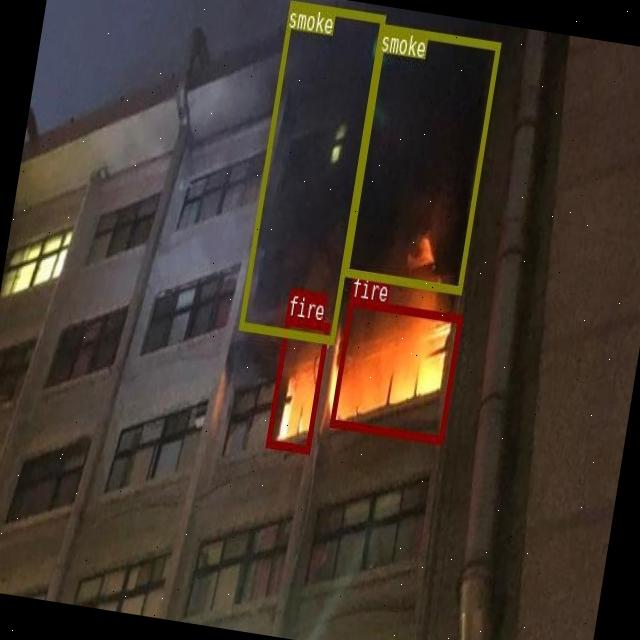fire: (330, 298, 462, 442), (266, 316, 330, 452)
smoke: (238, 0, 386, 342), (342, 24, 500, 292)
